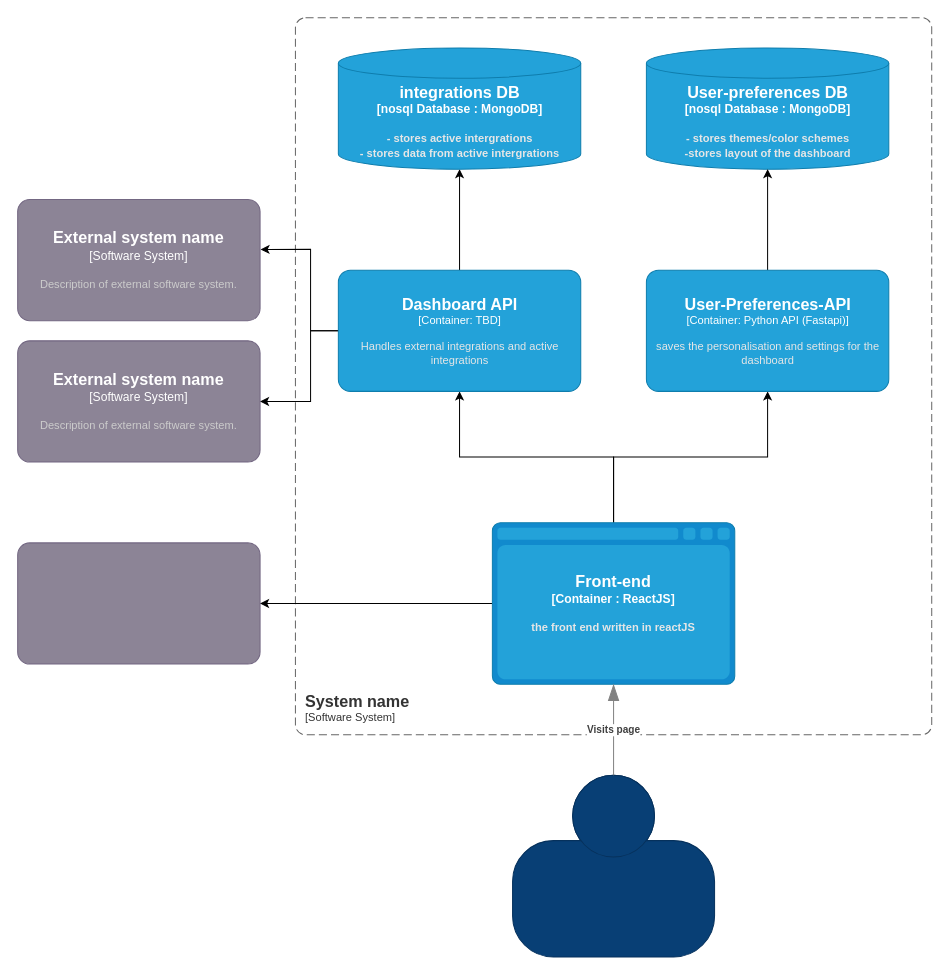
Some shapes in this 949 by 975 pixel diagram are drawn without their labels. The centre of each missing label's shape, as x and y in pixels:
"Dashboard User [Person] Someone specialized in IT" goes at (x=613, y=865).
"Google Login system [Software System] the login service from google" goes at (x=138, y=603).
